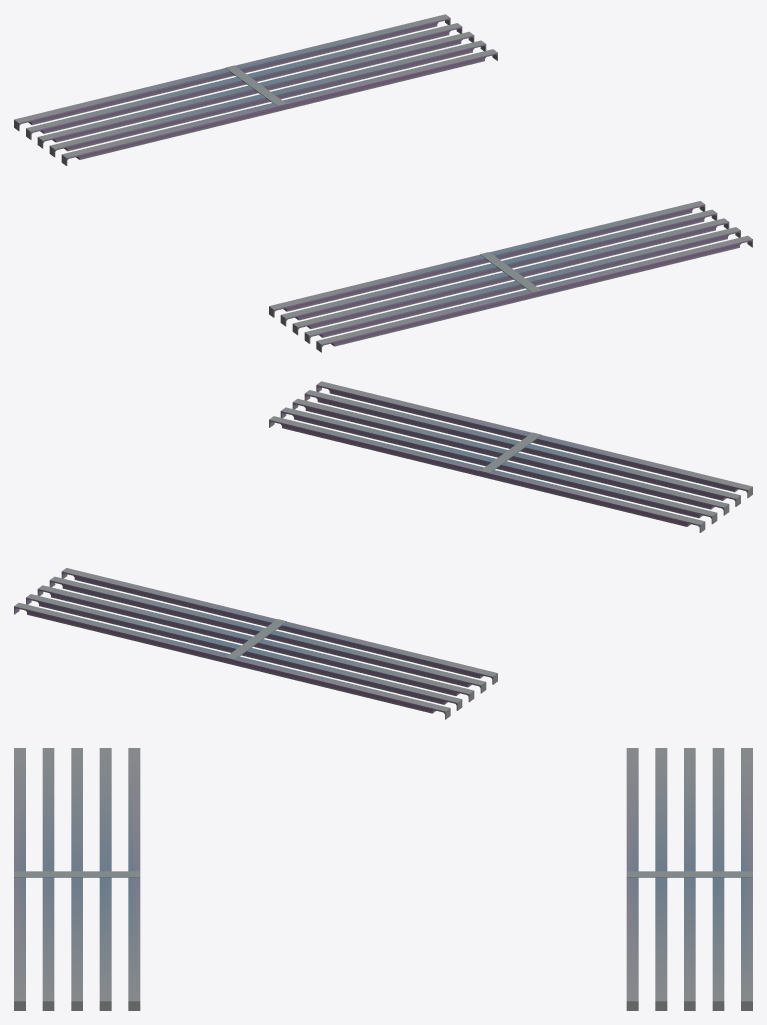
Rendered from simready-lighting_main_light_a01.glb.
3 renders of one model, top to bottom at view 1: azimuth 30°, elevation 25°; view 2: azimuth 150°, elevation 25°; view 3: azimuth 270°, elevation 25°, orthographic. The views are drawn at different scales.
Parts seen in each view (by area): view 1: middle_strap.001, middle_strap; view 2: middle_strap, middle_strap.001; view 3: middle_strap.001, middle_strap.
Part boxes in pixels (box(x1,y1,x2,y2)): middle_strap.001: box(14, 14, 497, 165); middle_strap: box(269, 201, 752, 352); middle_strap: box(269, 381, 752, 532); middle_strap.001: box(14, 568, 497, 719); middle_strap.001: box(626, 748, 752, 1010); middle_strap: box(14, 748, 140, 1010).
Bounding box in the file's own units: 5.87 × 0.111 × 7.24.
